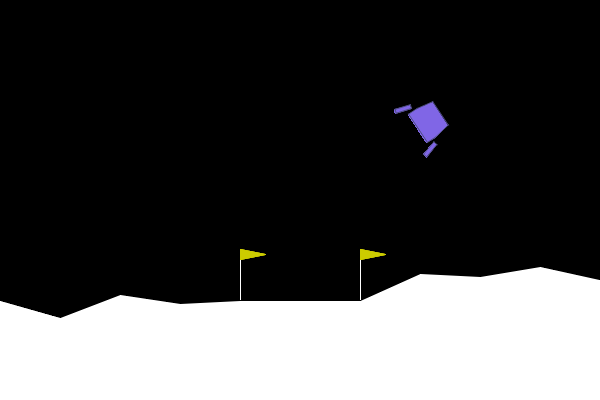lander: (392, 88, 458, 160)
